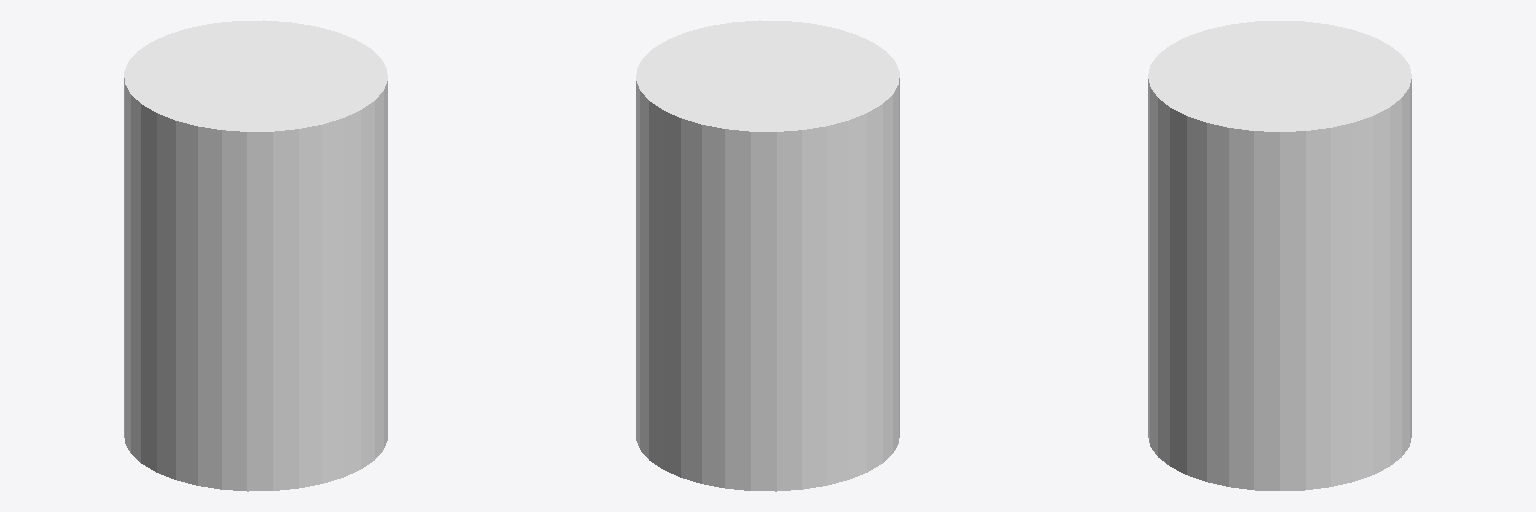
robot.urdf — Line1101:
<?xml version="1.0" encoding="utf-8"?>
<!-- This URDF was automatically created by SolidWorks to URDF Exporter! Originally created by [author] ([email redacted]) 
     Commit Version: 1.6.0-4-g7f85cfe  Build Version: 1.6.7995.38578
     For more information, please see http://wiki.ros.org/sw_urdf_exporter -->

<robot
  name="Line1101">
  <link
    name="link1">
    <inertial>
      <origin
        xyz="0 0 0.015"
        rpy="0 0 0" />
      <mass
        value="0.0094248" />
      <inertia
        ixx="9.4248E-07"
        ixy="0"
        ixz="-2.732E-39"
        iyy="9.4248E-07"
        iyz="-4.5918E-39"
        izz="4.7124E-07" />
    </inertial>
    <visual>
      <origin
        xyz="0 0 0"
        rpy="0 0 0" />
      <geometry>
        <mesh
          filename="package://Line1101/meshes/link1.STL" />
      </geometry>
      <material
        name="link1">
        <color
          rgba="1 1 1 1" />
      </material>
    </visual>
    <collision>
      <origin
        xyz="0 0 0"
        rpy="0 0 0" />
      <geometry>
        <mesh
          filename="package://Line1101/meshes/link1.STL" />
      </geometry>
    </collision>
  </link>
</robot>

--- Render facts (derived) ---
The picture shows the robot from 3 angles, left to right: view 1: azimuth 30°, elevation 25°; view 2: azimuth 150°, elevation 25°; view 3: azimuth 270°, elevation 25°; orthographic projection.
Robot: Line1101 — 1 links, 0 joints (none); root link link1; default pose: every joint at zero.
Visible links, largest first — view 1: link1; view 2: link1; view 3: link1.
Boxes of the visible links, left/top/right/bottom form: link1: left=124, top=20, right=387, bottom=491; link1: left=636, top=20, right=899, bottom=491; link1: left=1148, top=21, right=1411, bottom=490.
Size in the robot's own frame: 0.02 by 0.02 by 0.03 metres.
Meshes: 1 distinct files referenced, 1 mesh visuals loaded (1 binary STL).